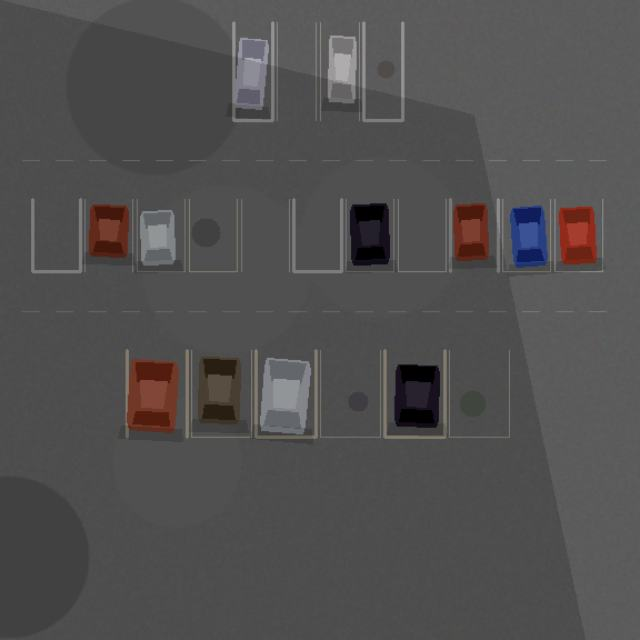space-empty: (320, 350, 380, 437), (449, 350, 509, 437), (277, 22, 316, 120), (363, 22, 402, 120), (32, 199, 80, 271), (189, 199, 237, 271), (241, 199, 289, 271), (293, 199, 341, 271), (398, 199, 446, 271)
space-occupied: (127, 350, 187, 437), (191, 350, 251, 437), (256, 350, 316, 437), (384, 350, 444, 437), (233, 22, 272, 120), (320, 22, 359, 120), (84, 199, 132, 271), (450, 199, 498, 271), (502, 199, 550, 271), (554, 199, 602, 271), (137, 199, 184, 271), (346, 199, 393, 271)
